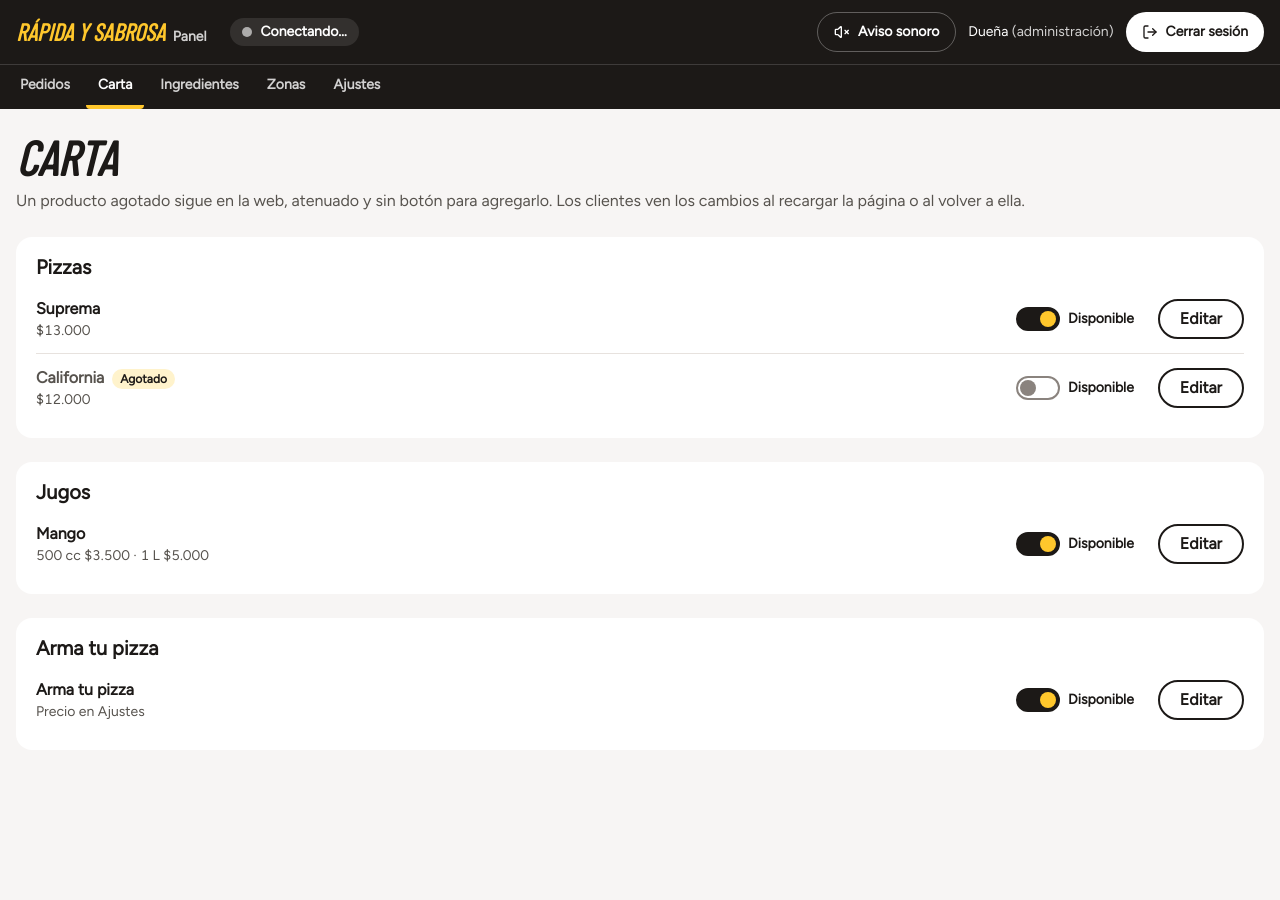
/carta › administración edita en línea: nada cambia hasta Guardar, y solo se manda lo que cambió
This screenshot has width=1280, height=900.
Expected: the heading "Carta" is shown, [16, 128, 116, 186]
Click the button named "Editar Suprema" at (1201, 319), box [1158, 299, 1244, 339]
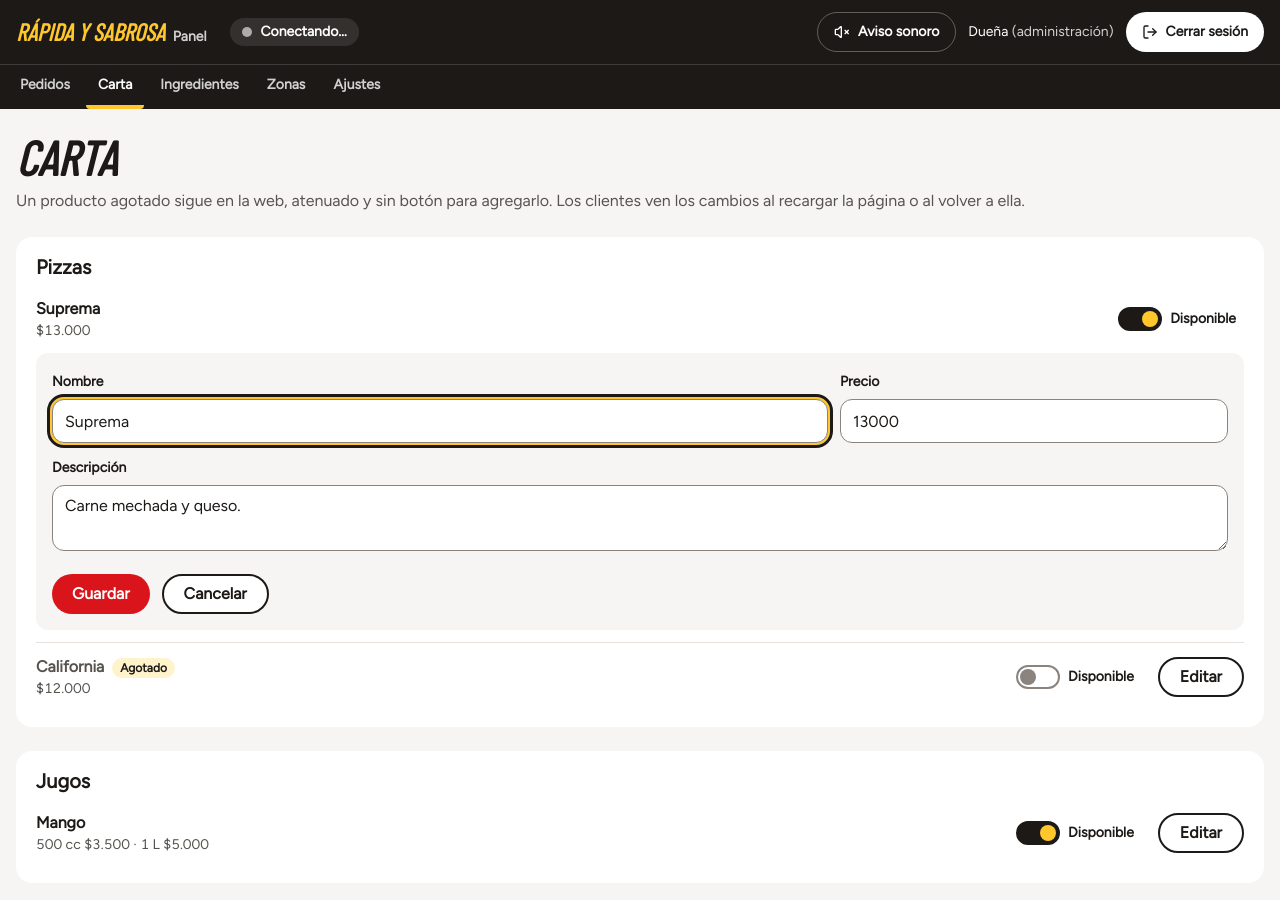
Expected: the field labelled "Nombre" holds "Suprema", [52, 399, 828, 443]
Expected: the text box labelled "Descripción" holds "Carne mechada y queso.", [52, 485, 1228, 551]
Expected: the field labelled "Precio" holds "13000"
Replace the text in the field labelled "Precio" with "13.500" at (1034, 421), box [840, 399, 1228, 443]
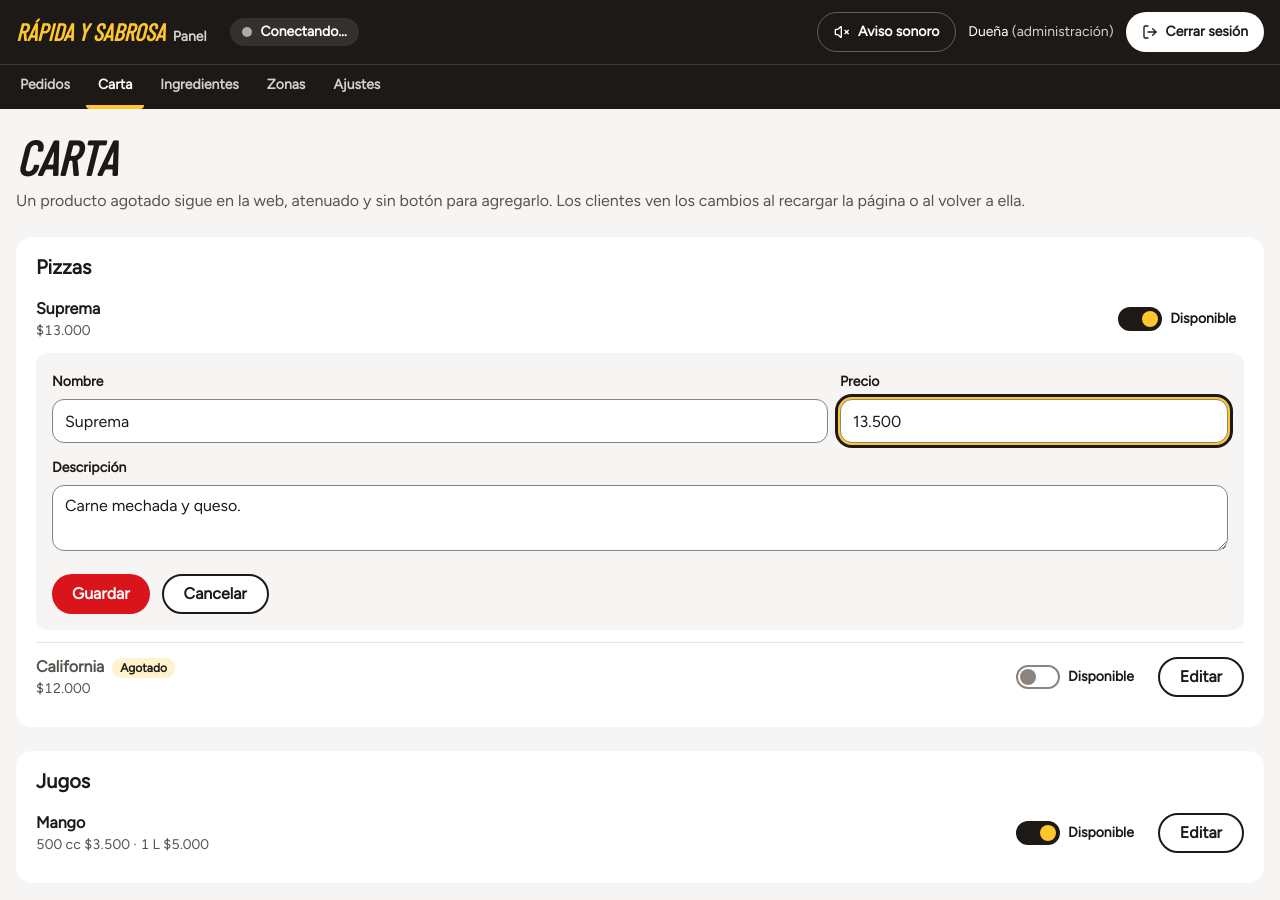
Expected: the text "$13.000" is shown, [36, 322, 90, 339]
Click the button "Guardar" at (101, 594), box [52, 574, 150, 614]
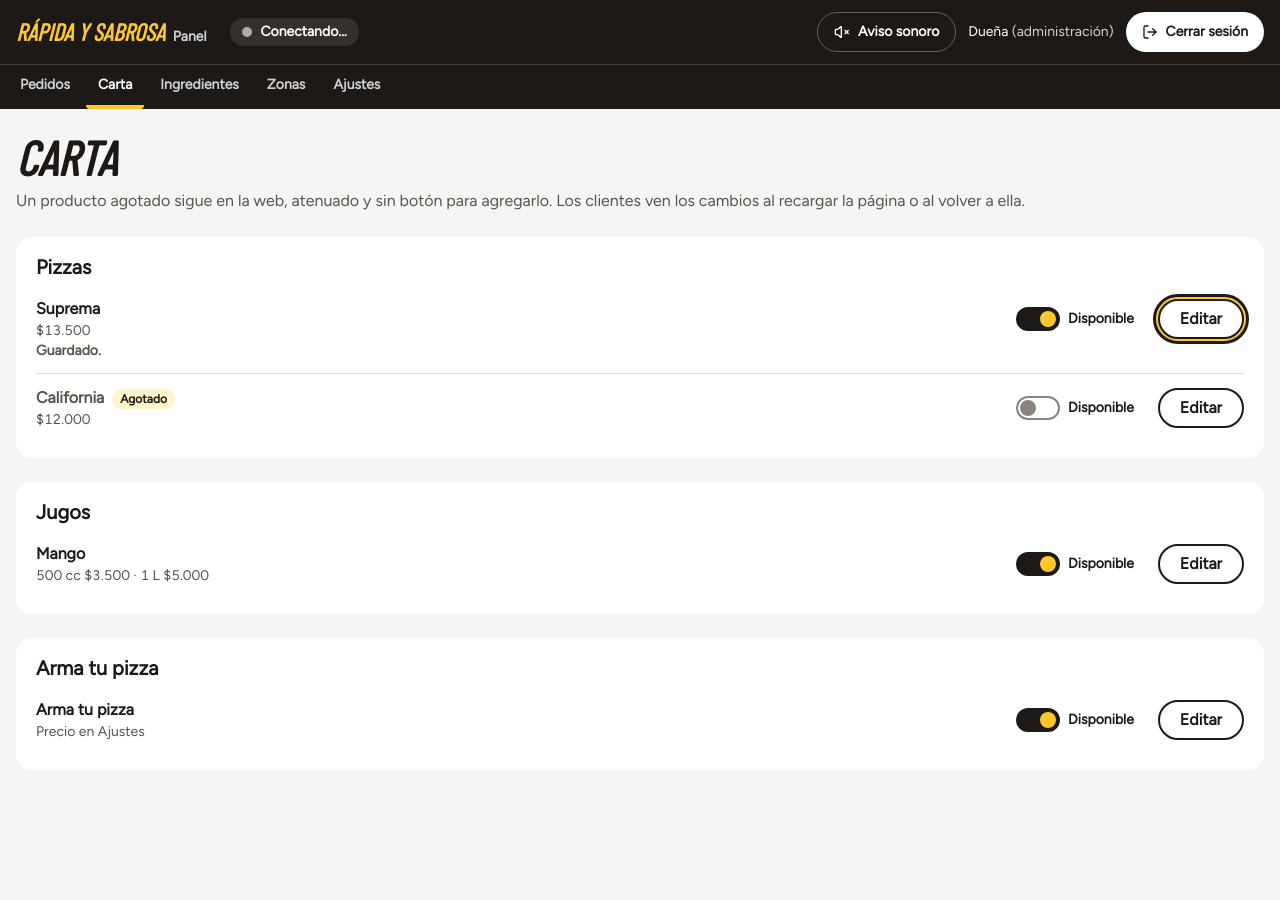
Expected: the text "$13.500" is shown, [36, 322, 90, 339]
Expected: the message "Guardado." is shown, [36, 342, 101, 359]
